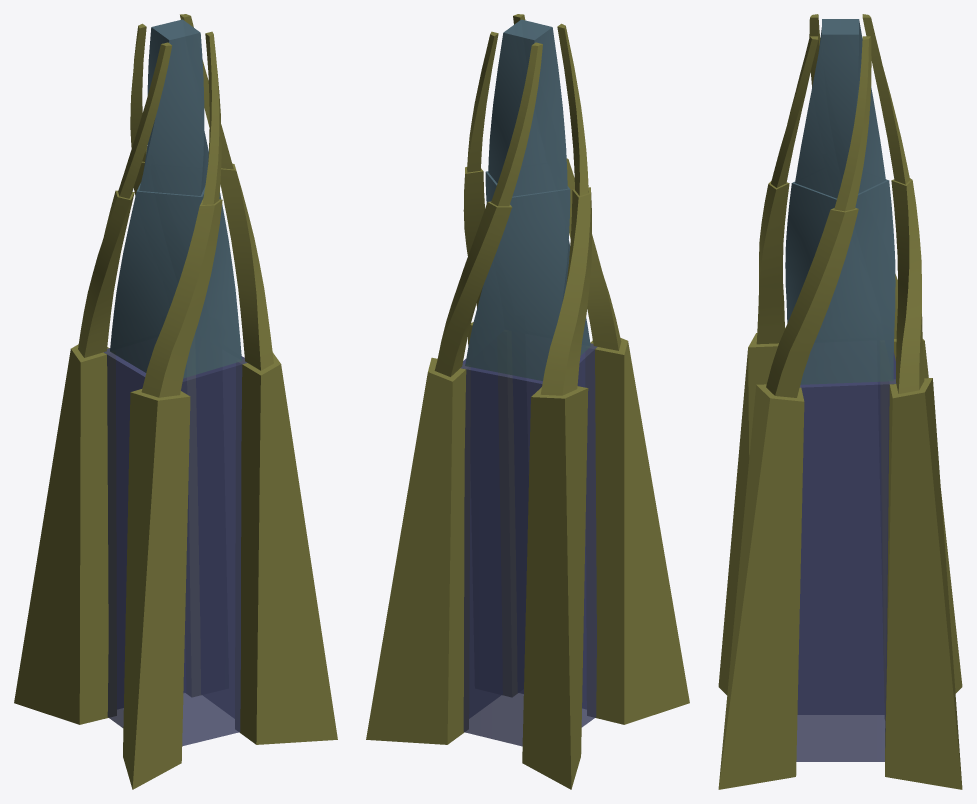
Rendered from MOD_Skyscraper_A.fbx.
3 renders of one model, left to right at view 1: azimuth 30°, elevation 25°; view 2: azimuth 150°, elevation 25°; view 3: azimuth 270°, elevation 25°, orthographic. The views are drawn at different scales.
Parts seen in each view (by area): view 1: MOD_Skyscraper_A; view 2: MOD_Skyscraper_A; view 3: MOD_Skyscraper_A.
Part boxes in pixels (bbox=[...]): MOD_Skyscraper_A: bbox=[14, 14, 337, 789]; MOD_Skyscraper_A: bbox=[366, 14, 689, 789]; MOD_Skyscraper_A: bbox=[718, 14, 962, 789].
Bounding box in the file's own units: 4950 × 15951 × 4950.
